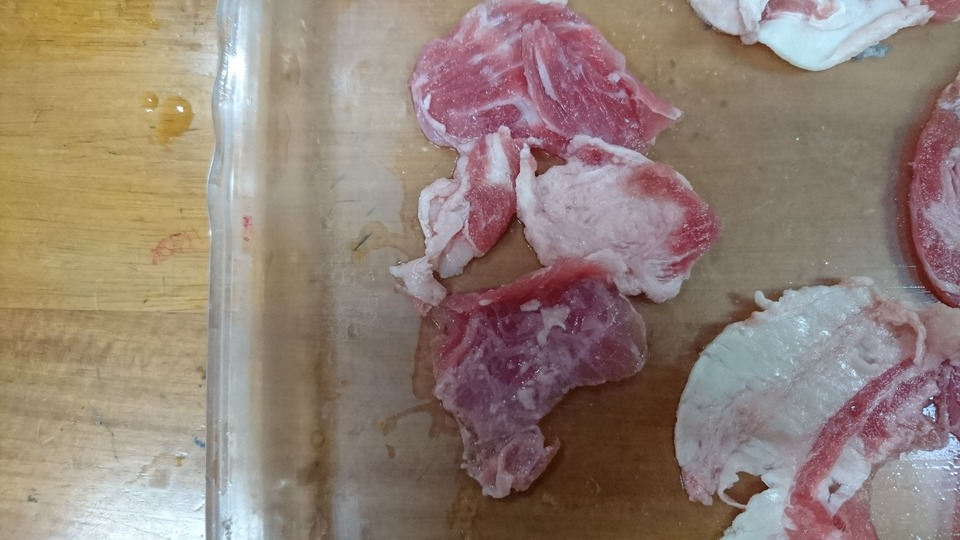restructured meat: (388, 4, 714, 497)
